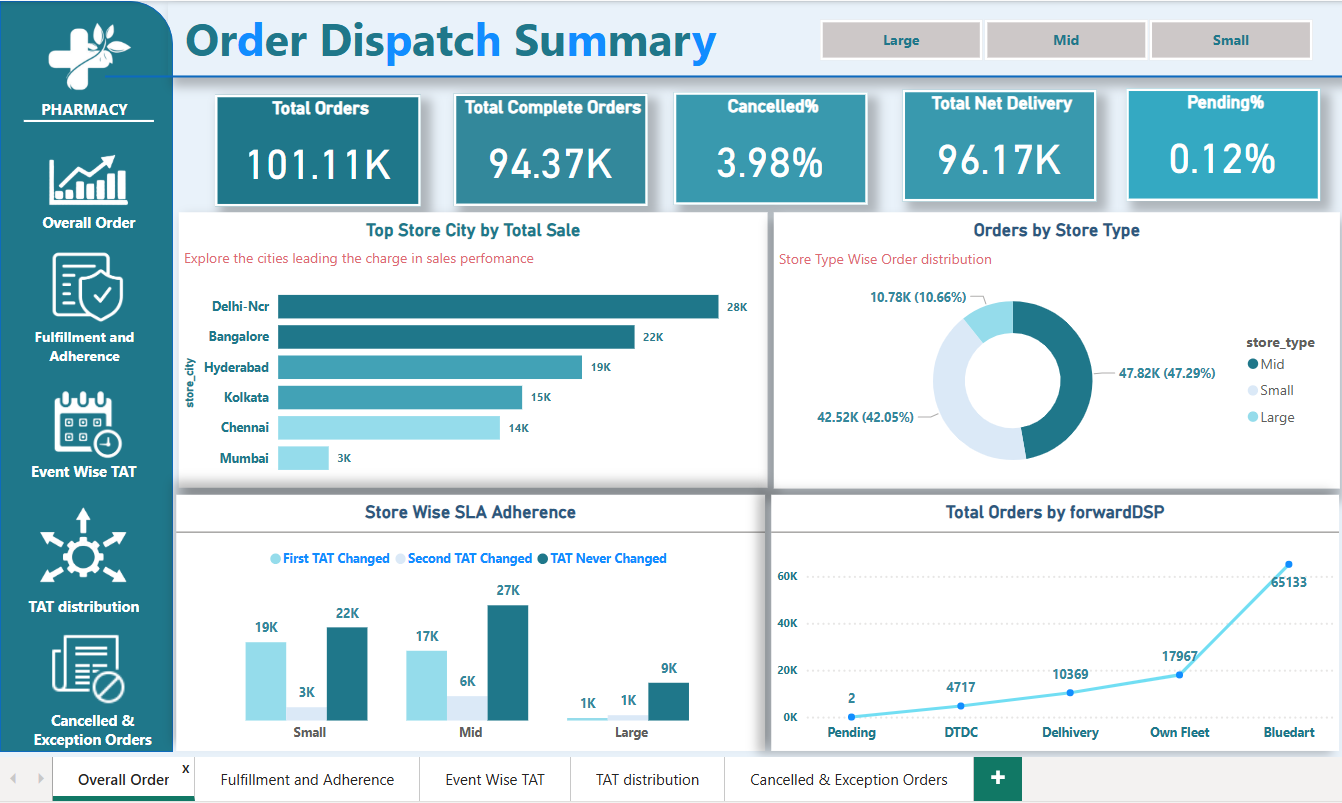

The page's visual inventory and layout, read from the dashboard file:
{"tool":"powerbi","page":{"name":" Overall Order","canvas":[1280,720],"ordinal":0},"visuals":[{"type":"shape","box":[0,0,164.8,715.5],"z":0},{"type":"textbox","box":[160,1.2,1118.6,70.2],"z":1000},{"type":"card","title":"Total Orders","fields":{"Values":["CountNonNull(Sheet1.orderid)"]},"box":[204.4,89.3,196.2,106.2],"z":2000},{"type":"card","title":"Total Complete Orders","fields":{"Values":["CountNonNull(Sheet1.orderid)"]},"box":[432.1,87.9,184.5,107.1],"z":3000},{"type":"card","title":"Cancelled%","fields":{"Values":["Sheet1.Cancelled%"]},"box":[641.7,86.9,184.5,107.1],"z":4000},{"type":"card","title":"Total Net  Delivery","fields":{"Values":["Sum(Sheet1.NetDelivery)"]},"box":[859.5,84.9,184.6,106.2],"z":5000},{"type":"card","title":"Pending%","fields":{"Values":["Sheet1.Pending%"]},"box":[1072.6,83.3,184.5,107.1],"z":6000},{"type":"barChart","title":"Top Store City by Total Sale","fields":{"Category":["Sheet1.store_city"],"Y":["CountNonNull(Sheet1.orderid)"]},"box":[170.2,201.2,560.7,262.6],"z":7000},{"type":"donutChart","title":"Orders by Store Type","fields":{"Category":["Sheet1.store_type"],"Y":["CountNonNull(Sheet1.orderid)"]},"box":[736.9,201.2,539.3,262.9],"z":8000},{"type":"image","box":[20,127.9,128.6,86.9],"z":9000},{"type":"image","box":[25.2,360.2,114.3,89.3],"z":10000},{"type":"image","box":[31,467.9,96.9,100],"z":11000},{"type":"image","box":[35,596.4,98.8,78.6],"z":12000},{"type":"image","box":[45.2,229.8,77.4,85.7],"z":13000},{"type":"actionButton","box":[15,117.9,135,109.5],"z":14000},{"type":"textbox","box":[31,196.4,110.7,30.2],"z":15000},{"type":"textbox","box":[1.2,305.5,158.3,48.1],"z":16000},{"type":"actionButton","box":[29.3,223.8,110.7,128.6],"z":17000},{"type":"actionButton","box":[11.9,358.8,140.5,106.7],"z":18000},{"type":"textbox","box":[19,433.3,125,33.6],"z":19000},{"type":"textbox","box":[17.9,562.4,123.8,28.6],"z":20000},{"type":"actionButton","box":[13.1,469.1,134.5,128.6],"z":21000},{"type":"textbox","box":[16.7,670.2,142.9,48.8],"z":22000},{"type":"actionButton","box":[9.5,601.4,148.8,118.8],"z":23000},{"type":"shape","box":[22.1,97.6,124.3,33.3],"z":24000},{"type":"clusteredColumnChart","title":"Store Wise SLA Adherence","fields":{"Category":["Sheet1.store_type"],"Y":["Sum(Sheet1.First_tat_changed)","Sum(Sheet1.second_tat_changed)","Sum(Sheet1.Never_change_tat)"]},"box":[167.9,470.2,560.7,244],"z":25000},{"type":"lineChart","title":"Total Orders by forwardDSP","fields":{"Y":["CountNonNull(Sheet1.orderid)"],"Category":["Sheet1.forwardDSP"]},"box":[734.5,470.2,540.5,244],"z":26000},{"type":"slicer","fields":{"Values":["Sheet1.store_type"]},"box":[754.8,10.7,519.1,52.4],"z":27000},{"type":"shape","box":[100,65.7,1178.6,13.1],"z":28000},{"type":"textbox","box":[2.1,87.6,156,31],"z":29000},{"type":"image","box":[8.3,1.2,156,98.8],"z":30000}]}

Visuals, with their boxes on the page's 1280x720 design canvas (x1, y1, x2, y2). These are canvas units, not pixel positions in the 1342x803 screenshot, which may show the page scaled, cropped or inside an application window:
shape: {"left": 0, "top": 0, "right": 165, "bottom": 716}
textbox: {"left": 160, "top": 1, "right": 1279, "bottom": 71}
"Total Orders" card: {"left": 204, "top": 89, "right": 401, "bottom": 196}
"Total Complete Orders" card: {"left": 432, "top": 88, "right": 617, "bottom": 195}
"Cancelled%" card: {"left": 642, "top": 87, "right": 826, "bottom": 194}
"Total Net  Delivery" card: {"left": 860, "top": 85, "right": 1044, "bottom": 191}
"Pending%" card: {"left": 1073, "top": 83, "right": 1257, "bottom": 190}
"Top Store City by Total Sale" barChart: {"left": 170, "top": 201, "right": 731, "bottom": 464}
"Orders by Store Type" donutChart: {"left": 737, "top": 201, "right": 1276, "bottom": 464}
image: {"left": 20, "top": 128, "right": 149, "bottom": 215}
image: {"left": 25, "top": 360, "right": 140, "bottom": 450}
image: {"left": 31, "top": 468, "right": 128, "bottom": 568}
image: {"left": 35, "top": 596, "right": 134, "bottom": 675}
image: {"left": 45, "top": 230, "right": 123, "bottom": 316}
actionButton: {"left": 15, "top": 118, "right": 150, "bottom": 227}
textbox: {"left": 31, "top": 196, "right": 142, "bottom": 227}
textbox: {"left": 1, "top": 306, "right": 160, "bottom": 354}
actionButton: {"left": 29, "top": 224, "right": 140, "bottom": 352}
actionButton: {"left": 12, "top": 359, "right": 152, "bottom": 466}
textbox: {"left": 19, "top": 433, "right": 144, "bottom": 467}
textbox: {"left": 18, "top": 562, "right": 142, "bottom": 591}
actionButton: {"left": 13, "top": 469, "right": 148, "bottom": 598}
textbox: {"left": 17, "top": 670, "right": 160, "bottom": 719}
actionButton: {"left": 10, "top": 601, "right": 158, "bottom": 720}
shape: {"left": 22, "top": 98, "right": 146, "bottom": 131}
"Store Wise SLA Adherence" clusteredColumnChart: {"left": 168, "top": 470, "right": 729, "bottom": 714}
"Total Orders by forwardDSP" lineChart: {"left": 734, "top": 470, "right": 1275, "bottom": 714}
slicer - Sheet1.store_type: {"left": 755, "top": 11, "right": 1274, "bottom": 63}
shape: {"left": 100, "top": 66, "right": 1279, "bottom": 79}
textbox: {"left": 2, "top": 88, "right": 158, "bottom": 119}
image: {"left": 8, "top": 1, "right": 164, "bottom": 100}
